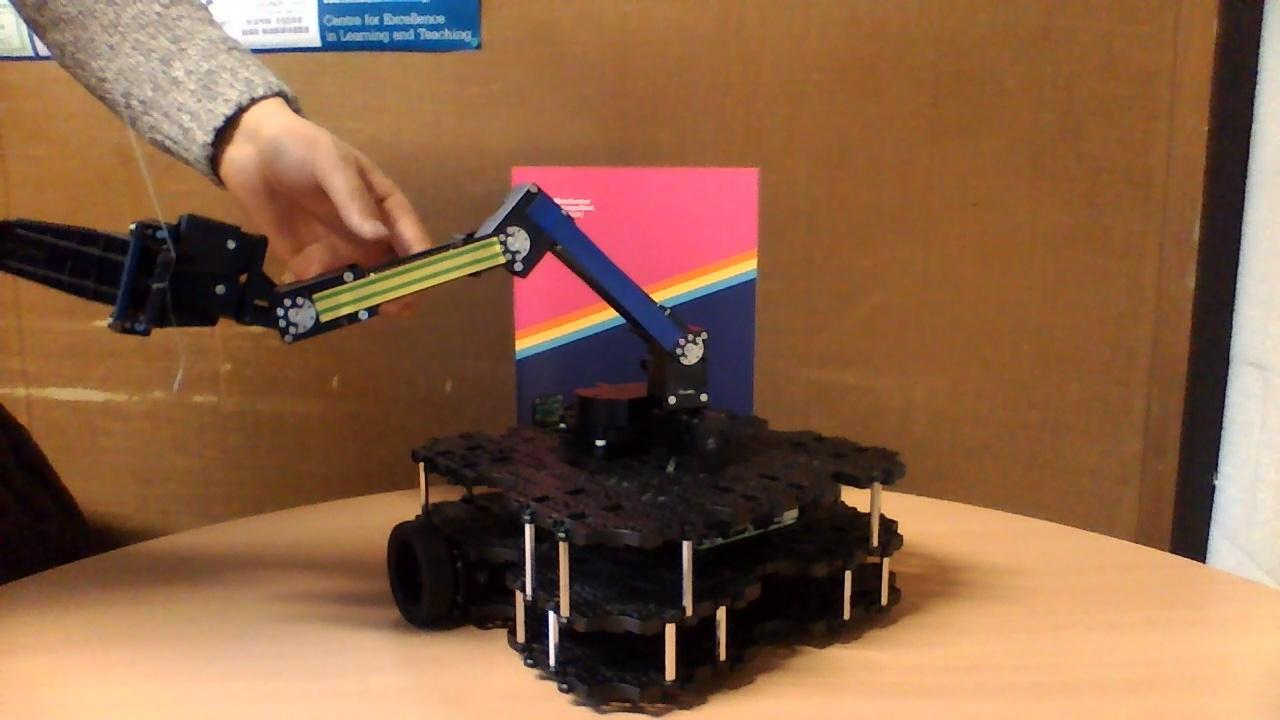Arm: (518, 182, 709, 371)
Hand: (0, 212, 314, 348)
Wrist: (275, 224, 531, 346)
base: (382, 376, 910, 706)
